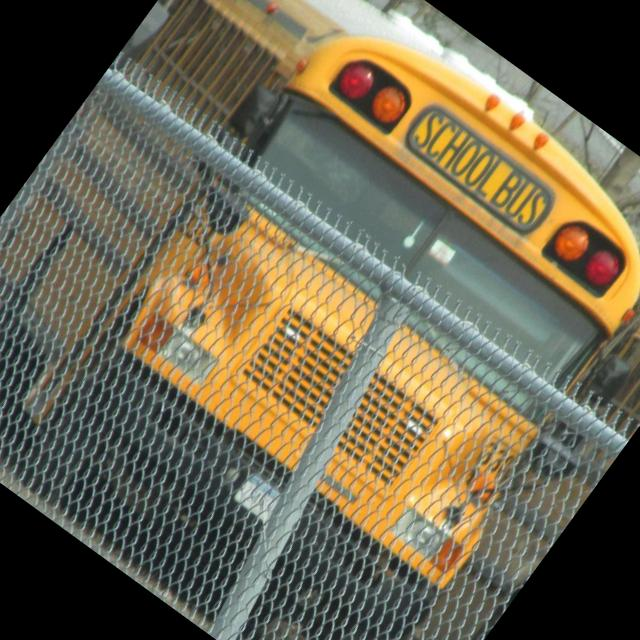bus: (0, 0, 640, 640), (374, 255, 640, 640)
